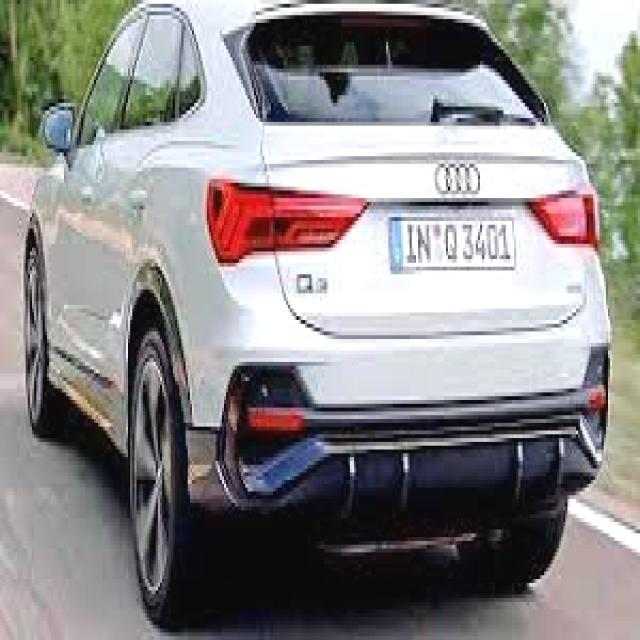SUV: (20, 0, 606, 612)
